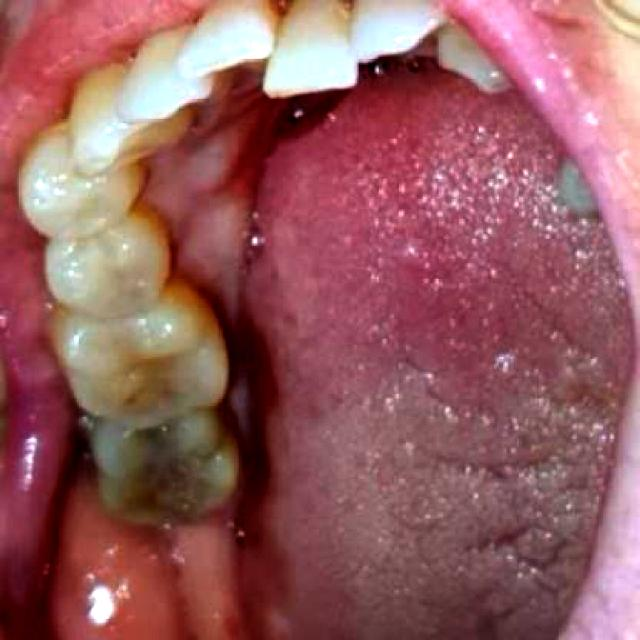Plaque: (180, 438, 221, 470), (119, 385, 147, 413)
